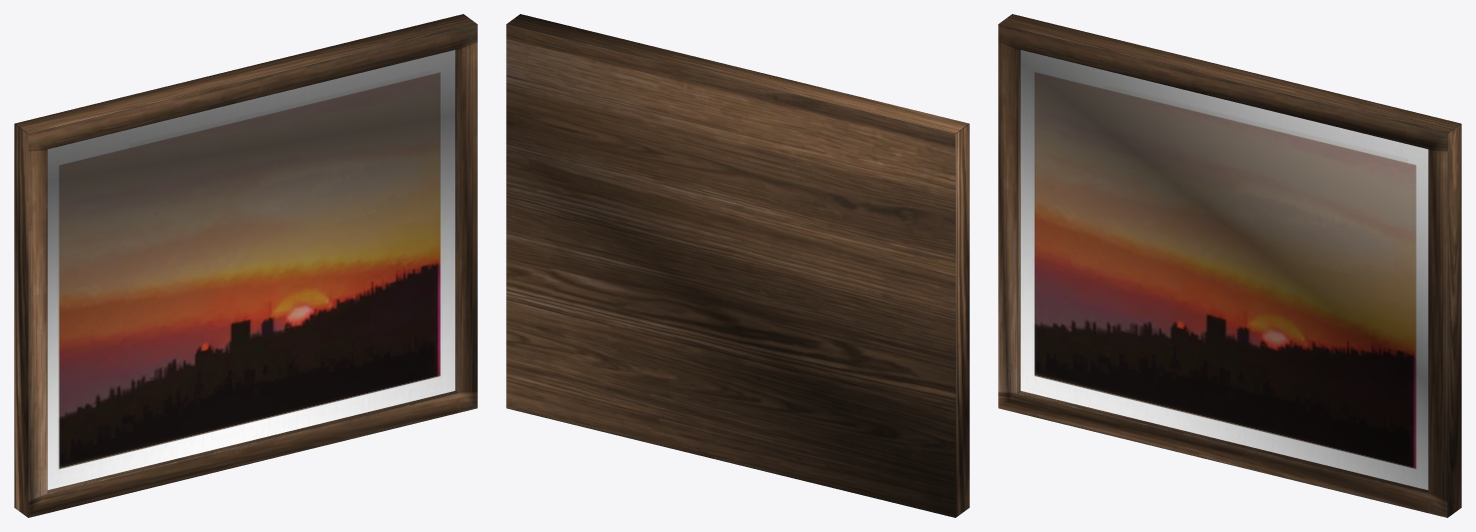
Rendered from painting-sun.glb.
The picture shows the model from 3 angles, left to right: view 1: azimuth 30°, elevation 25°; view 2: azimuth 150°, elevation 25°; view 3: azimuth 330°, elevation 25°; orthographic projection.
Parts seen in each view (by area): view 1: Plano.001; view 2: Plano.001; view 3: Plano.001.
Part boxes in pixels (x1,y1,x2,y2): Plano.001: (14, 14, 477, 517); Plano.001: (506, 14, 969, 517); Plano.001: (998, 14, 1461, 517).
Bounding box in the file's own units: 0.6215 × 0.5079 × 0.0334.
Materials: 1 (1 with a texture image).
